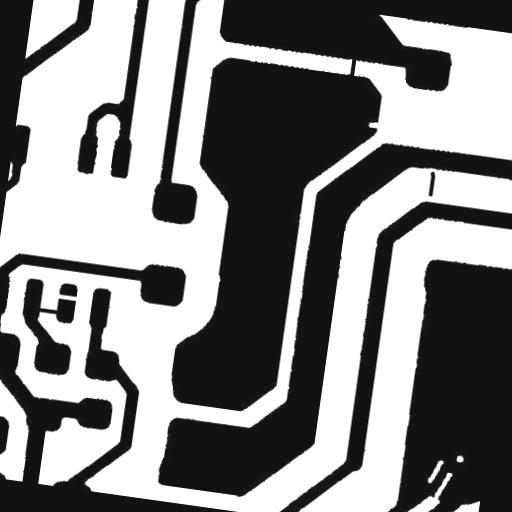copper: (419, 162, 444, 204)
mousebite: (426, 462, 460, 509), (360, 112, 390, 138)
open: (48, 285, 86, 309)
pin-hole: (418, 450, 452, 493)
short: (26, 298, 68, 324), (340, 48, 364, 90)
